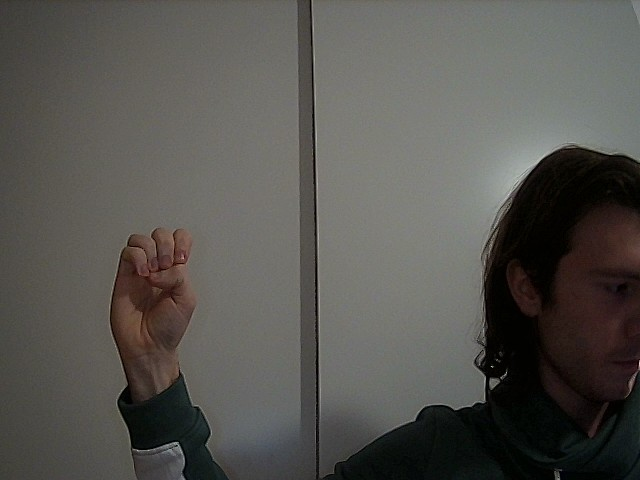e: (93, 206, 216, 359)
